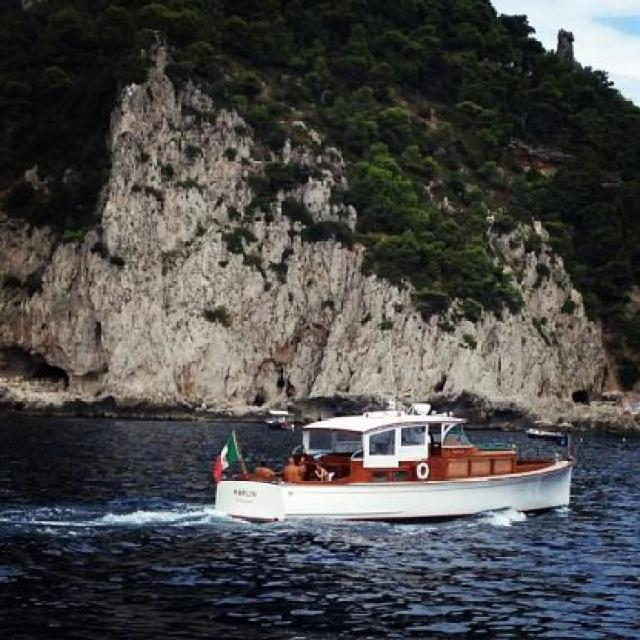ship: (208, 402, 583, 523), (261, 405, 296, 429), (524, 423, 565, 440)
